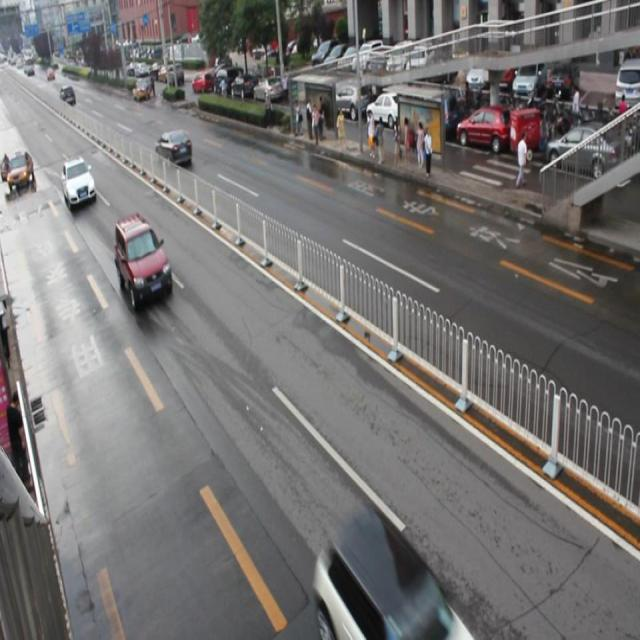car: (315, 516, 467, 640), (115, 210, 171, 309), (62, 154, 96, 207), (155, 128, 192, 166)
